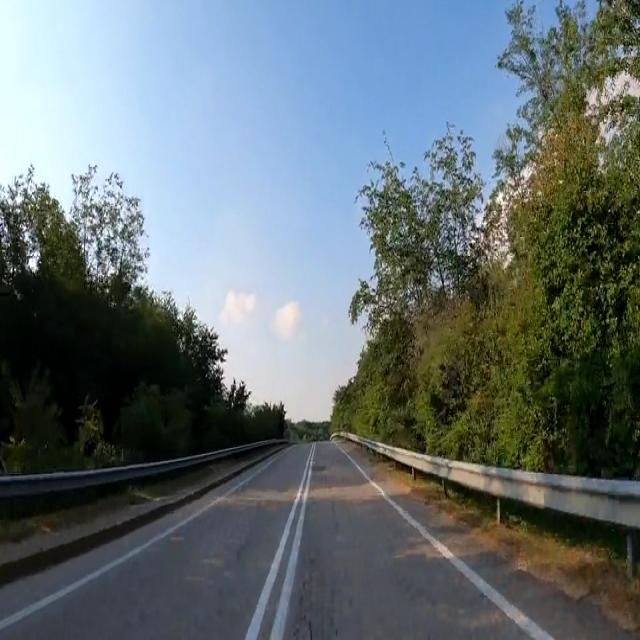lane: (0, 462, 270, 630), (339, 448, 552, 640), (245, 446, 313, 639), (270, 444, 314, 640)
road: (0, 442, 639, 639)
